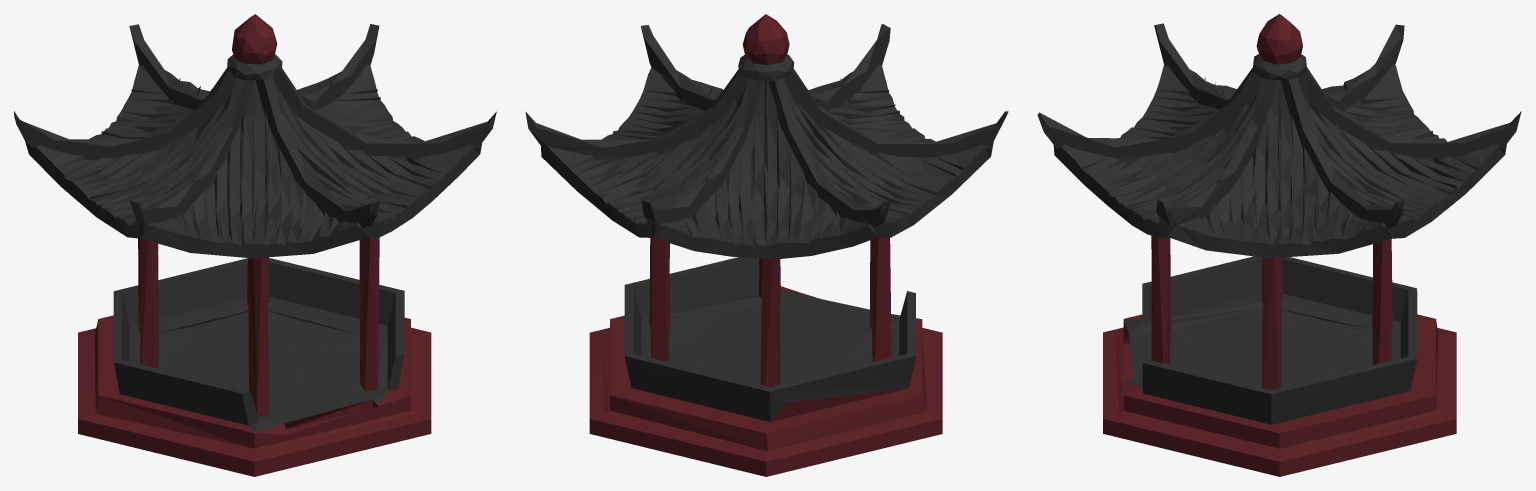
File: Templo.fbx
The picture shows the model from 3 angles, left to right: view 1: azimuth 30°, elevation 25°; view 2: azimuth 150°, elevation 25°; view 3: azimuth 270°, elevation 25°; orthographic projection.
Visible parts, largest first — view 1: 2_pergola_-_roof; view 2: 2_pergola_-_roof; view 3: 2_pergola_-_roof.
Boxes of the visible parts, x1,y1,x2,y2 form: 2_pergola_-_roof: (14, 14, 496, 476); 2_pergola_-_roof: (525, 14, 1008, 476); 2_pergola_-_roof: (1037, 14, 1521, 476).
Bounding box in the file's own units: 33100 × 32478 × 37795.
